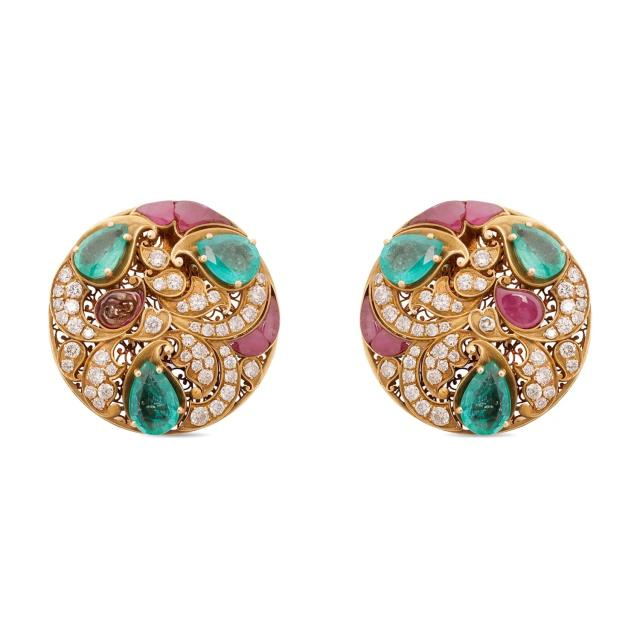missing gem: (98, 291, 143, 329), (480, 317, 495, 331)
